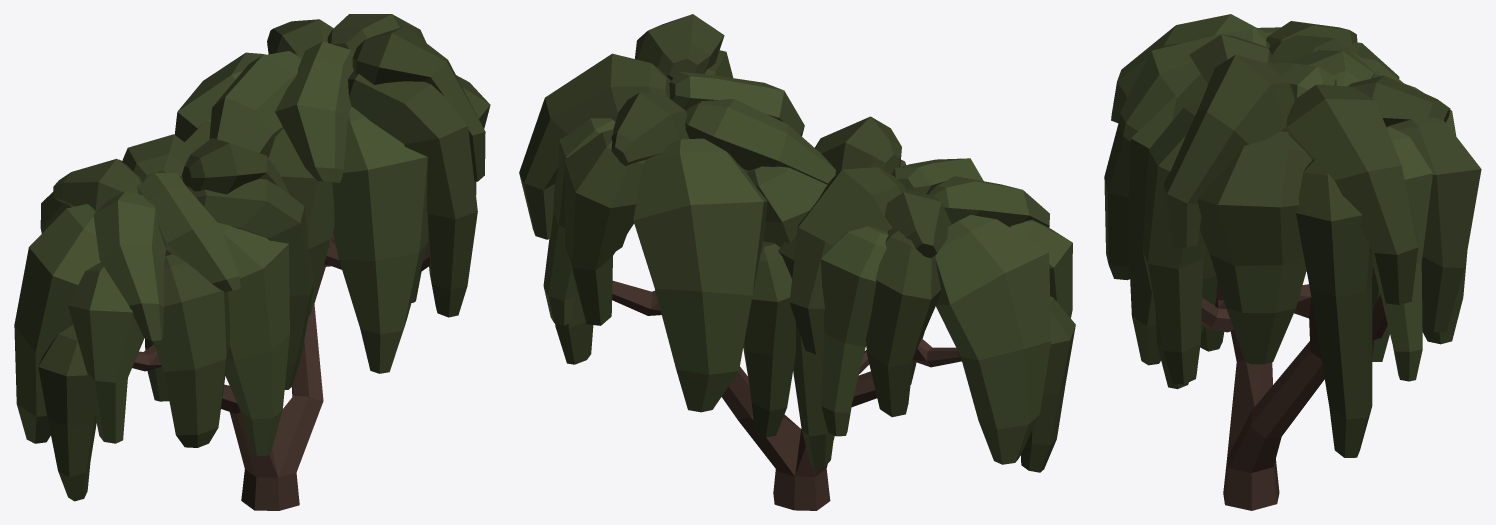
The model's file is Tree Type6 04.glb.
3 renders of one model, left to right at view 1: azimuth 30°, elevation 25°; view 2: azimuth 150°, elevation 25°; view 3: azimuth 270°, elevation 25°, orthographic. The views are drawn at different scales.
Parts seen in each view (by area): view 1: Tree_Type6_04_mesh; view 2: Tree_Type6_04_mesh; view 3: Tree_Type6_04_mesh.
Part boxes in pixels (bbox=[...]): Tree_Type6_04_mesh: bbox=[14, 14, 490, 510]; Tree_Type6_04_mesh: bbox=[519, 14, 1075, 510]; Tree_Type6_04_mesh: bbox=[1104, 14, 1481, 510].
Bounding box in the file's own units: 5.09 × 4.67 × 3.17.
Materials: 1 (1 with a texture image).
